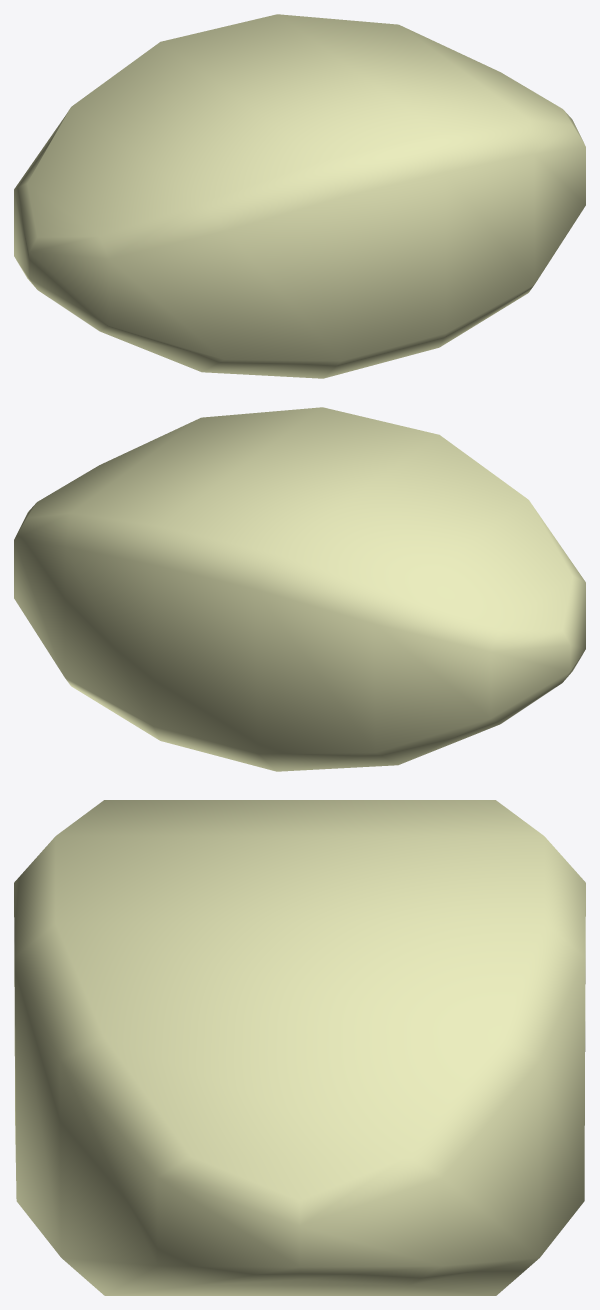
The model's file is Soap.fbx.
The picture shows the model from 3 angles, top to bottom: view 1: azimuth 30°, elevation 25°; view 2: azimuth 150°, elevation 25°; view 3: azimuth 270°, elevation 25°; orthographic projection. The views are drawn at different scales.
Parts seen in each view (by area): view 1: Soap; view 2: Soap; view 3: Soap.
Boxes of the visible parts, x1,y1,x2,y2 form: Soap: (14,14,585,378); Soap: (14,407,585,771); Soap: (14,800,585,1295).
Bounding box in the file's own units: 8.71 × 3.34 × 5.3.
